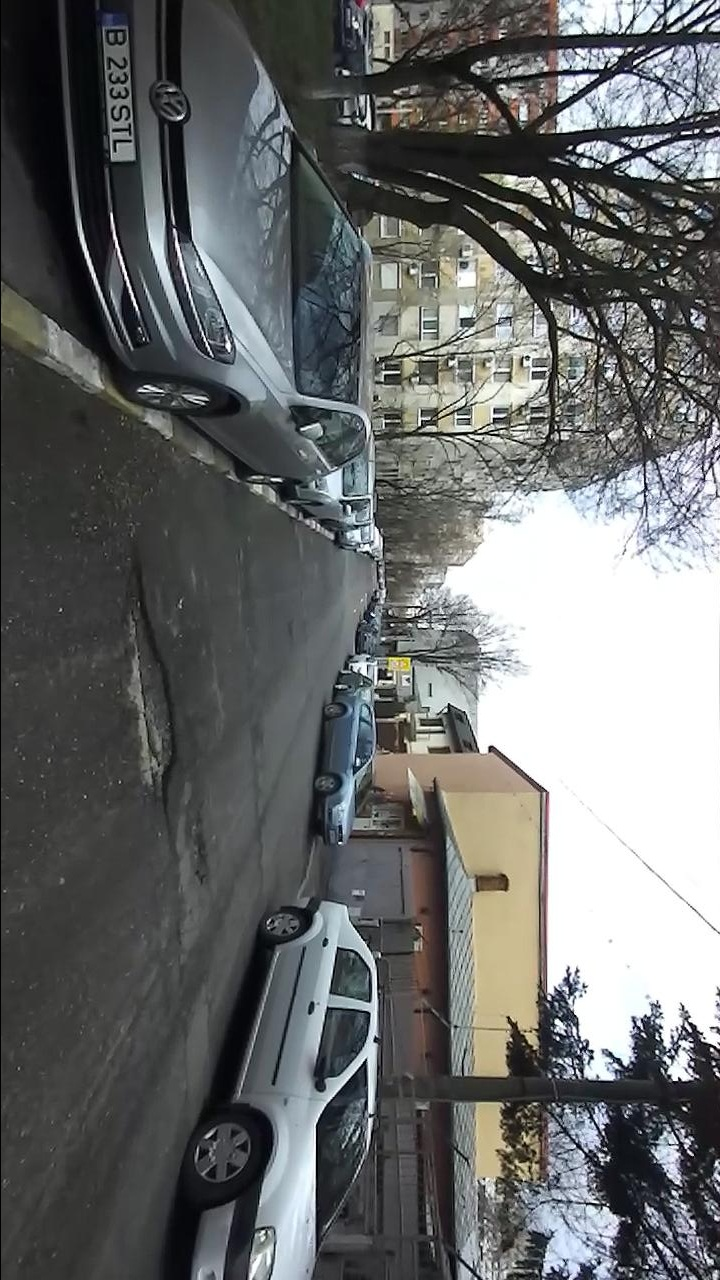pothole: (116, 545, 181, 847), (187, 804, 217, 894)
